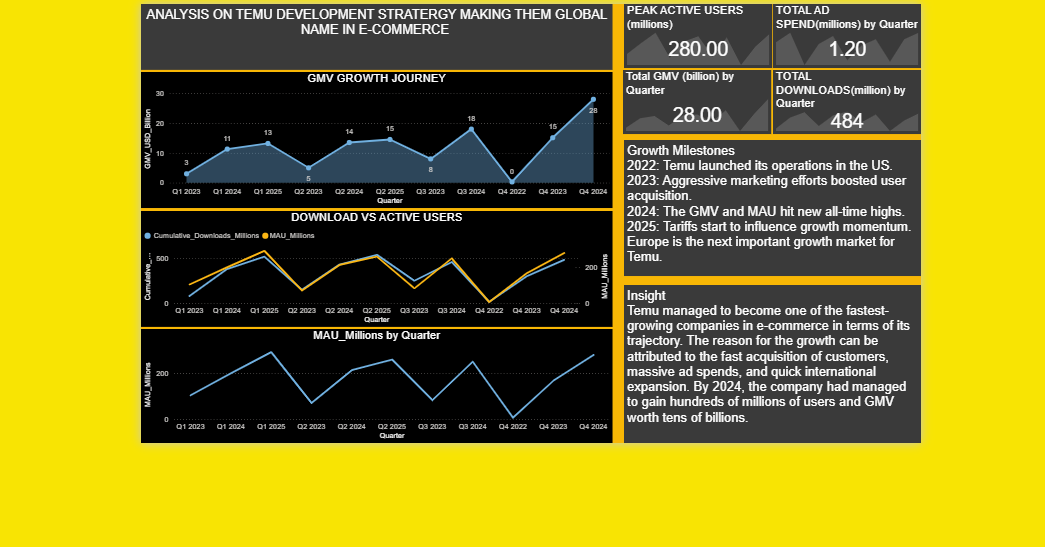

The dashboard page shown, as its layout file describes it:
{"tool":"powerbi","page":{"name":"THE EXPLOSION TEMU HYPER GROWTH STORY","canvas":[1280,720],"ordinal":0},"visuals":[{"type":"textbox","box":[0,0,773.3,108.3],"z":0},{"type":"kpi","fields":{"Indicator":["csv temu_growth_clean.Total GMV"],"TrendLine":["csv temu_growth_clean.Quarter"]},"box":[790,108.3,243.3,105],"z":1000},{"type":"kpi","title":"PEAK ACTIVE USERS (millions)","fields":{"Indicator":["csv temu_growth_clean.PEAK ACTIVE USERS"],"TrendLine":["csv temu_growth_clean.Quarter"]},"box":[791.7,0,243.3,105],"z":2000},{"type":"kpi","fields":{"Indicator":["csv temu_growth_clean.TOTAL DOWNLOADS"],"TrendLine":["csv temu_growth_clean.Quarter"]},"box":[1036.7,108.3,243.3,105],"z":3000},{"type":"kpi","fields":{"Indicator":["csv temu_growth_clean.TOTAL AD SPEND"],"TrendLine":["csv temu_growth_clean.Quarter"]},"box":[1036.7,0,243.3,105],"z":4000},{"type":"areaChart","title":"GMV GROWTH JOURNEY","fields":{"Category":["csv temu_growth_clean.Quarter"],"Y":["Sum(csv temu_growth_clean.GMV_USD_Billion)"]},"box":[0,111.7,773.3,223.3],"z":5000},{"type":"lineChart","fields":{"Category":["csv temu_growth_clean.Quarter"],"Y":["Sum(csv temu_growth_clean.MAU_Millions)"]},"box":[0,533.3,773.3,186.7],"z":6000},{"type":"lineChart","title":"DOWNLOAD VS ACTIVE USERS","fields":{"Category":["csv temu_growth_clean.Quarter"],"Y":["Sum(csv temu_growth_clean.Cumulative_Downloads_Millions)"],"Y2":["Sum(csv temu_growth_clean.MAU_Millions)"]},"box":[0,340,773.3,190],"z":7000},{"type":"textbox","box":[791.7,223.3,488.3,223.3],"z":8000},{"type":"textbox","box":[791.7,460,488.3,260],"z":9000}]}

Visuals, with their boxes on the page's 1280x720 design canvas (x1, y1, x2, y2). These are canvas units, not pixel positions in the 1045x547 screenshot, which may show the page scaled, cropped or inside an application window:
textbox: [0,0,773,108]
kpi - csv temu_growth_clean.Total GMV x csv temu_growth_clean.Quarter: [790,108,1033,213]
"PEAK ACTIVE USERS (millions)" kpi: [792,0,1035,105]
kpi - csv temu_growth_clean.TOTAL DOWNLOADS x csv temu_growth_clean.Quarter: [1037,108,1280,213]
kpi - csv temu_growth_clean.TOTAL AD SPEND x csv temu_growth_clean.Quarter: [1037,0,1280,105]
"GMV GROWTH JOURNEY" areaChart: [0,112,773,335]
lineChart - csv temu_growth_clean.Quarter x Sum(csv temu_growth_clean.MAU_Millions): [0,533,773,720]
"DOWNLOAD VS ACTIVE USERS" lineChart: [0,340,773,530]
textbox: [792,223,1280,447]
textbox: [792,460,1280,720]
